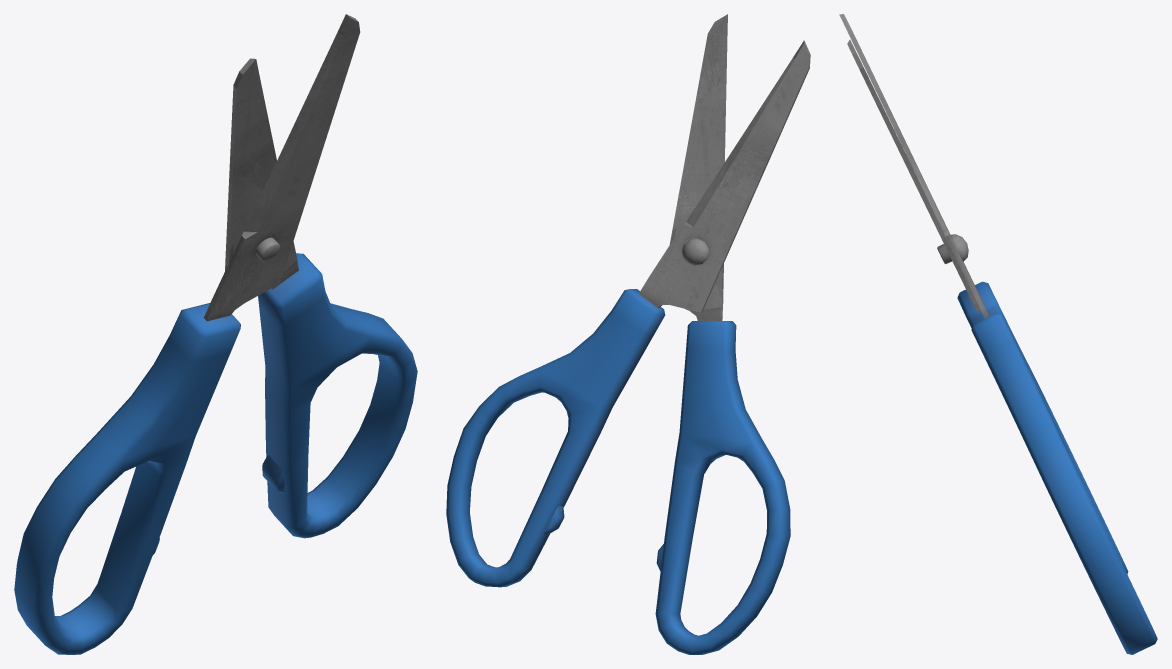
File: scissors.glb
3 views of the same model, side by side, from view 1: azimuth 30°, elevation 25°; view 2: azimuth 150°, elevation 25°; view 3: azimuth 270°, elevation 25° (orthographic). The views are drawn at different scales.
Parts seen in each view (by area): view 1: scissor_L_1, scissor_R_2; view 2: scissor_R_2, scissor_L_1, rivet_0; view 3: scissor_R_2, scissor_L_1.
Boxes of the visible parts, bbox=[...] form: scissor_L_1: bbox=[14, 14, 360, 654]; scissor_R_2: bbox=[225, 58, 417, 538]; scissor_R_2: bbox=[446, 40, 810, 587]; scissor_L_1: bbox=[655, 14, 790, 654]; rivet_0: bbox=[682, 238, 708, 265]; scissor_R_2: bbox=[839, 14, 1157, 654]; scissor_L_1: bbox=[847, 39, 1128, 573].
Size of the model in its own units: 0.085 by 0.1421 by 0.0696.
1 material, 1 textured.
